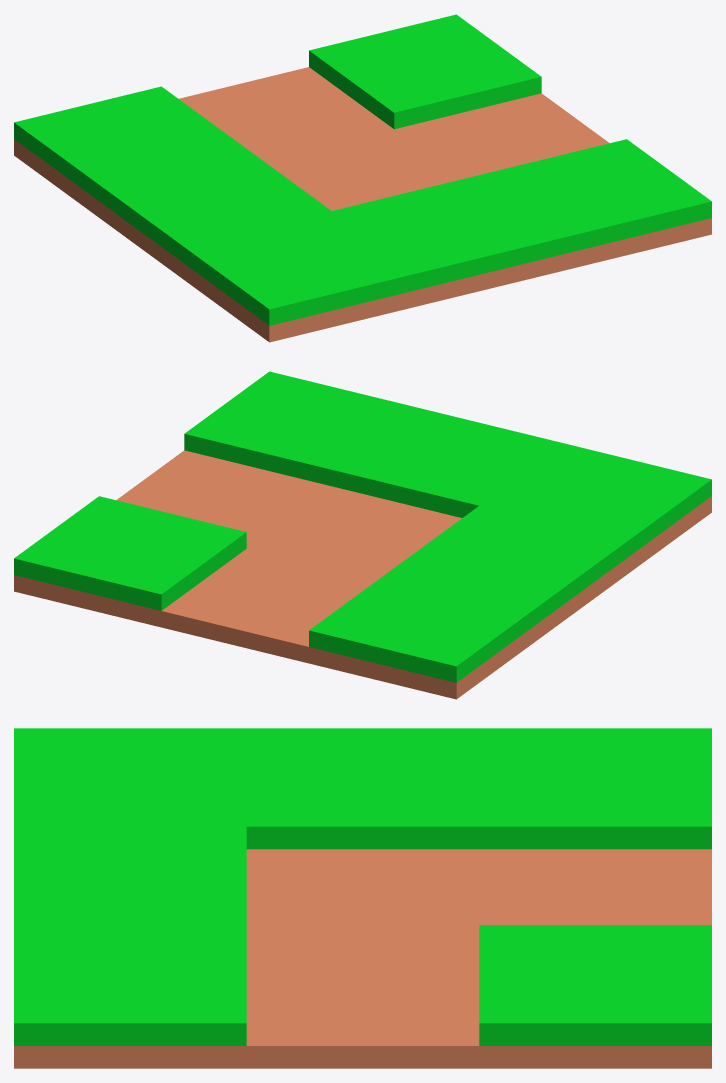
The model's file is SoilTurnTrail.fbx.
3 views of the same model, one above another, from view 1: azimuth 30°, elevation 25°; view 2: azimuth 150°, elevation 25°; view 3: azimuth 270°, elevation 25° (orthographic). The views are drawn at different scales.
Visible parts, largest first — view 1: Soil; view 2: Soil; view 3: Soil.
Part boxes in pixels (<box>): Soil: <box>14,14,711,342</box>; Soil: <box>14,371,711,699</box>; Soil: <box>14,728,711,1068</box>.
Size of the model in its own units: 560 by 560 by 40.
